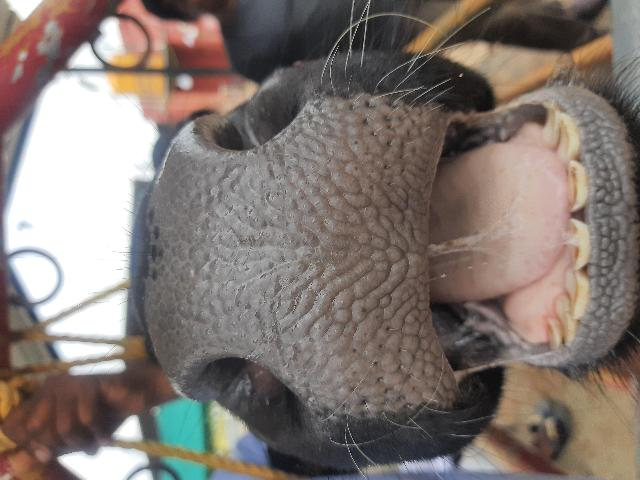Muzzle: (158, 162, 440, 362)
